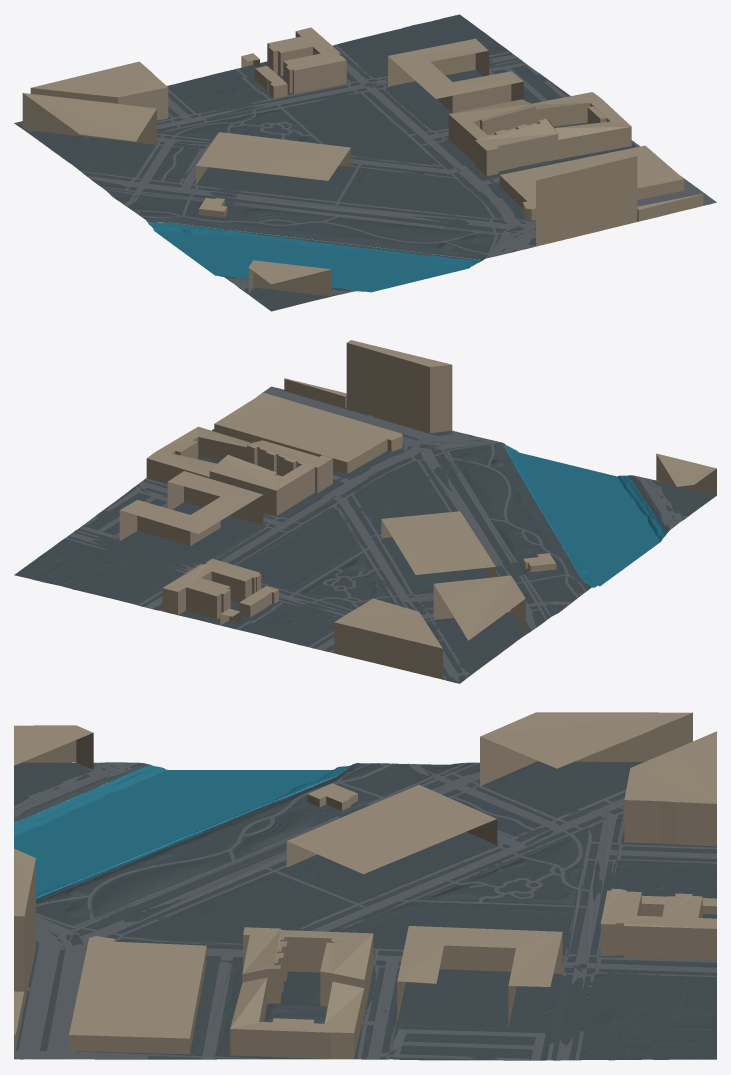
Rendered from epsg26910-1441-10887.lod0.glb.
The picture shows the model from 3 angles, top to bottom: view 1: azimuth 30°, elevation 25°; view 2: azimuth 150°, elevation 25°; view 3: azimuth 270°, elevation 25°; orthographic projection. The views are drawn at different scales.
Parts seen in each view (by area): view 1: epsg26910-1441-10887-lod0; view 2: epsg26910-1441-10887-lod0; view 3: epsg26910-1441-10887-lod0.
Part boxes in pixels (left/top/right/bottom): epsg26910-1441-10887-lod0: left=14, top=14, right=716, bottom=311; epsg26910-1441-10887-lod0: left=14, top=340, right=716, bottom=683; epsg26910-1441-10887-lod0: left=14, top=712, right=716, bottom=1060.
Bounding box in the file's own units: 384 × 58.96 × 384.
